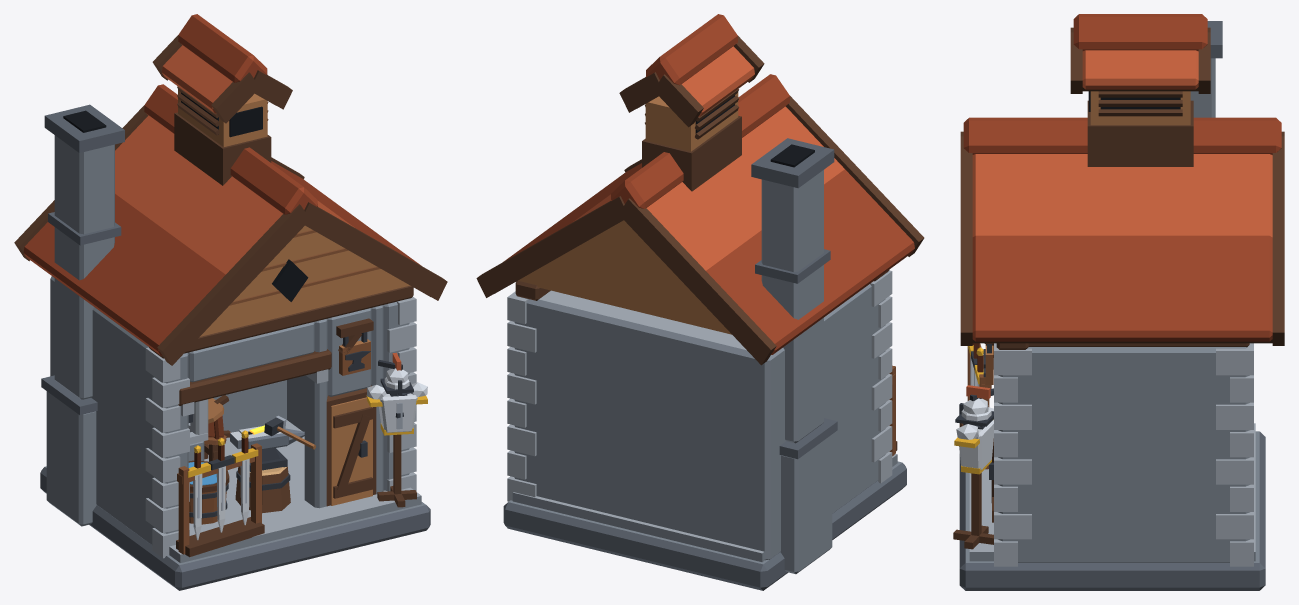
The model's file is Bld_Forge_L2.fbx.
3 views of the same model, side by side, from view 1: azimuth 30°, elevation 25°; view 2: azimuth 150°, elevation 25°; view 3: azimuth 270°, elevation 25° (orthographic). The views are drawn at different scales.
Visible parts, largest first — view 1: Bld_Forge_L2; view 2: Bld_Forge_L2; view 3: Bld_Forge_L2.
Part boxes in pixels (box(x1,y1,x2,y2)): Bld_Forge_L2: box(14, 14, 447, 590); Bld_Forge_L2: box(476, 14, 924, 590); Bld_Forge_L2: box(953, 14, 1284, 590).
Size of the model in its own units: 3.48 by 5.45 by 3.21.
